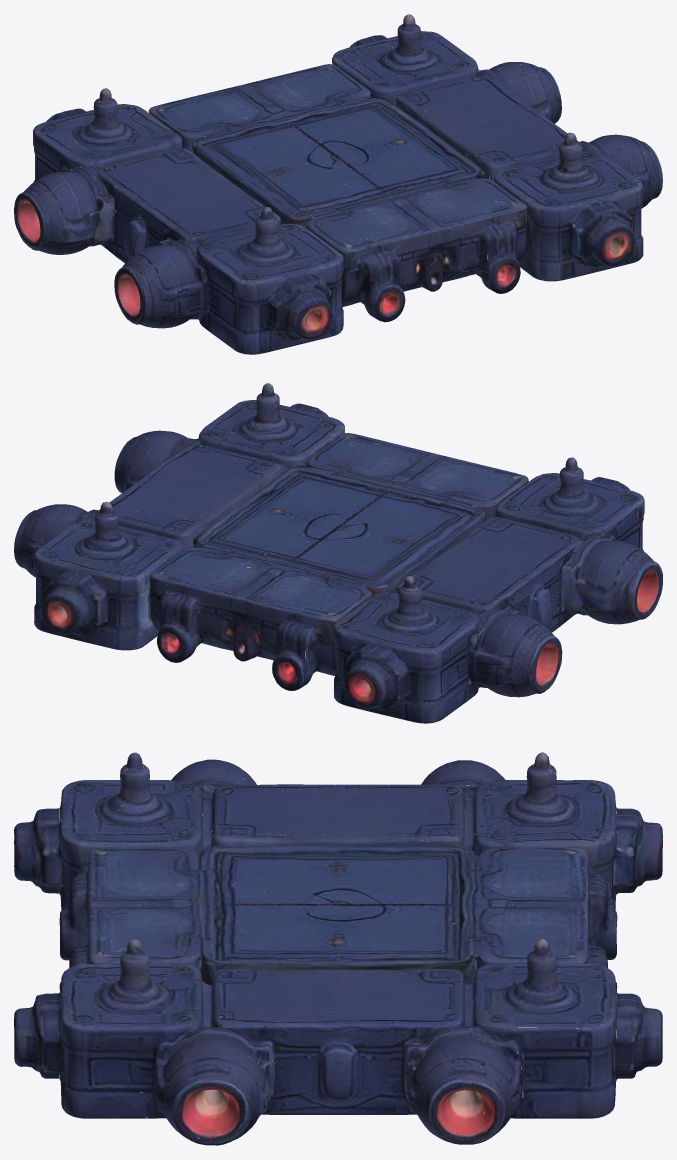
File: hdr-black.glb
3 views of the same model, one above another, from view 1: azimuth 30°, elevation 25°; view 2: azimuth 150°, elevation 25°; view 3: azimuth 270°, elevation 25° (orthographic). The views are drawn at different scales.
Parts seen in each view (by area): view 1: tripo_node_8746d12f-9462-4281-be8b-a0f9e7480da6; view 2: tripo_node_8746d12f-9462-4281-be8b-a0f9e7480da6; view 3: tripo_node_8746d12f-9462-4281-be8b-a0f9e7480da6.
Part boxes in pixels (left/top/right/bottom): tripo_node_8746d12f-9462-4281-be8b-a0f9e7480da6: left=14, top=14, right=662, bottom=354; tripo_node_8746d12f-9462-4281-be8b-a0f9e7480da6: left=14, top=383, right=662, bottom=723; tripo_node_8746d12f-9462-4281-be8b-a0f9e7480da6: left=14, top=752, right=662, bottom=1145.
Bounding box in the file's own units: 2.42 × 0.5654 × 2.07.
Materials: 1 (1 with a texture image).
